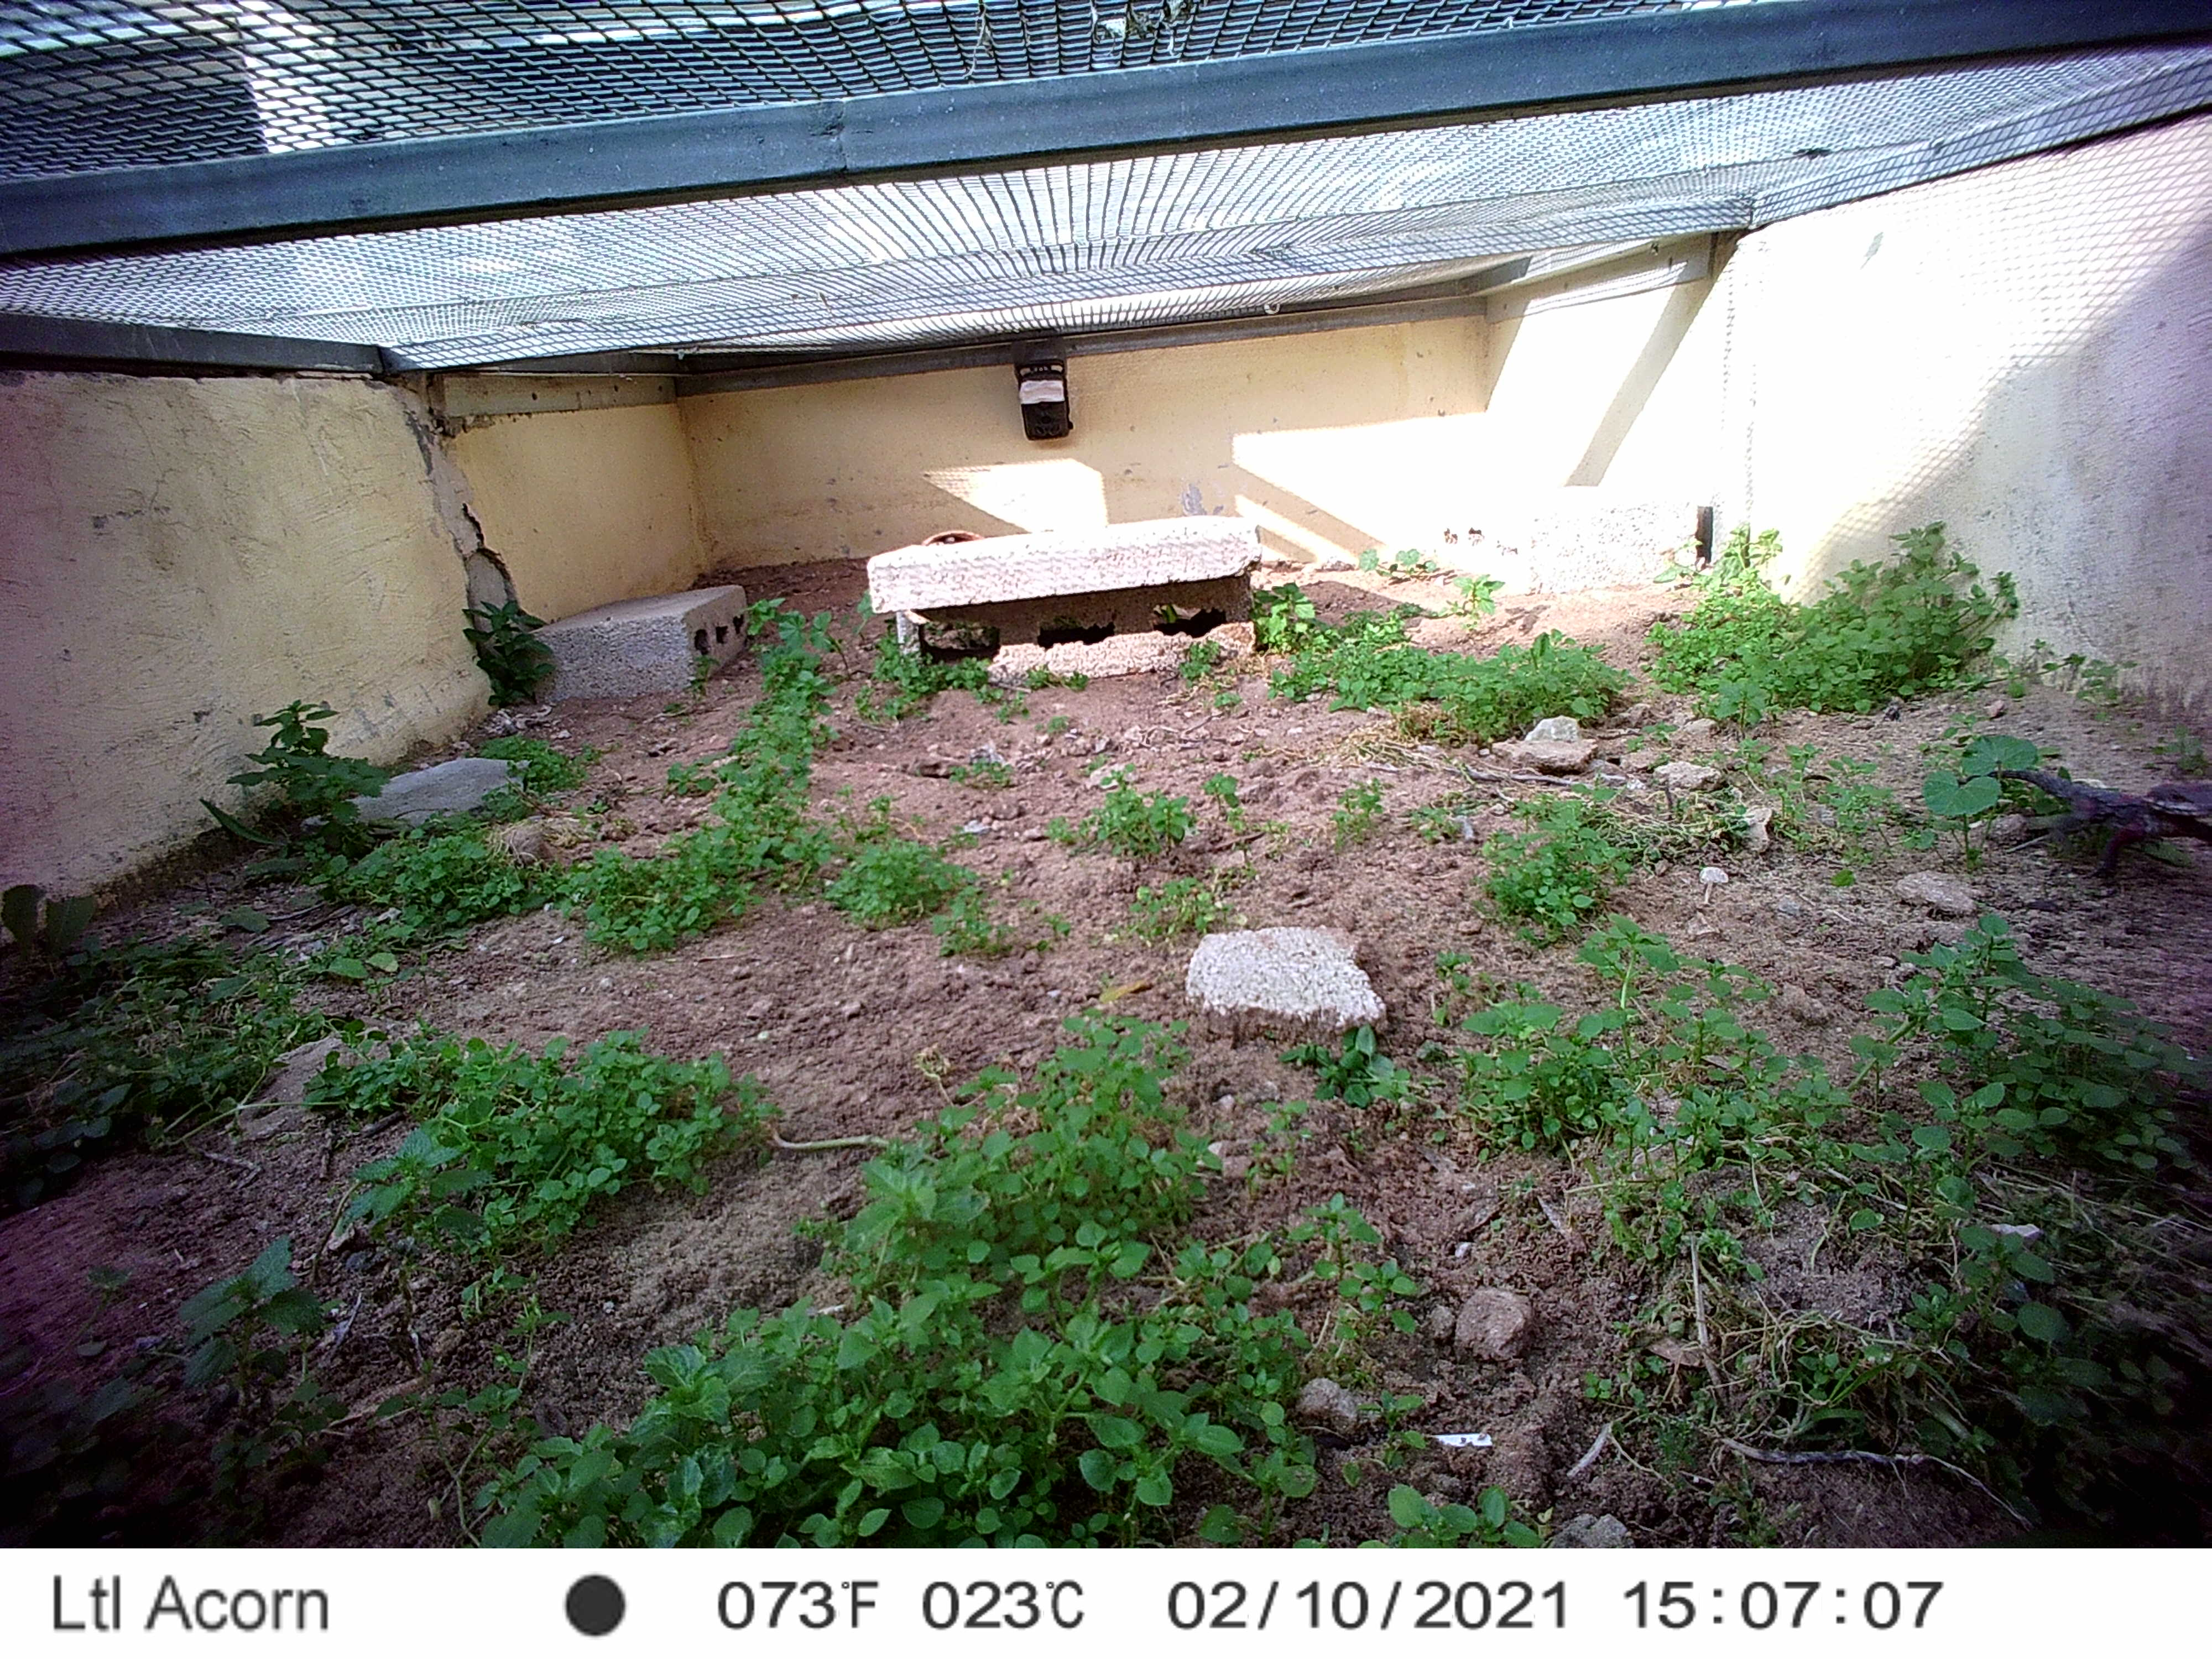lizard: (1937, 755, 2209, 890)
